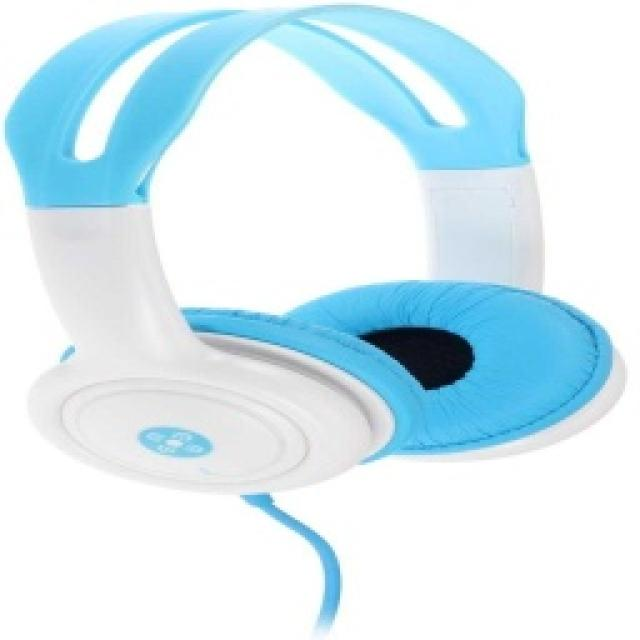headphones: (0, 0, 625, 498)
